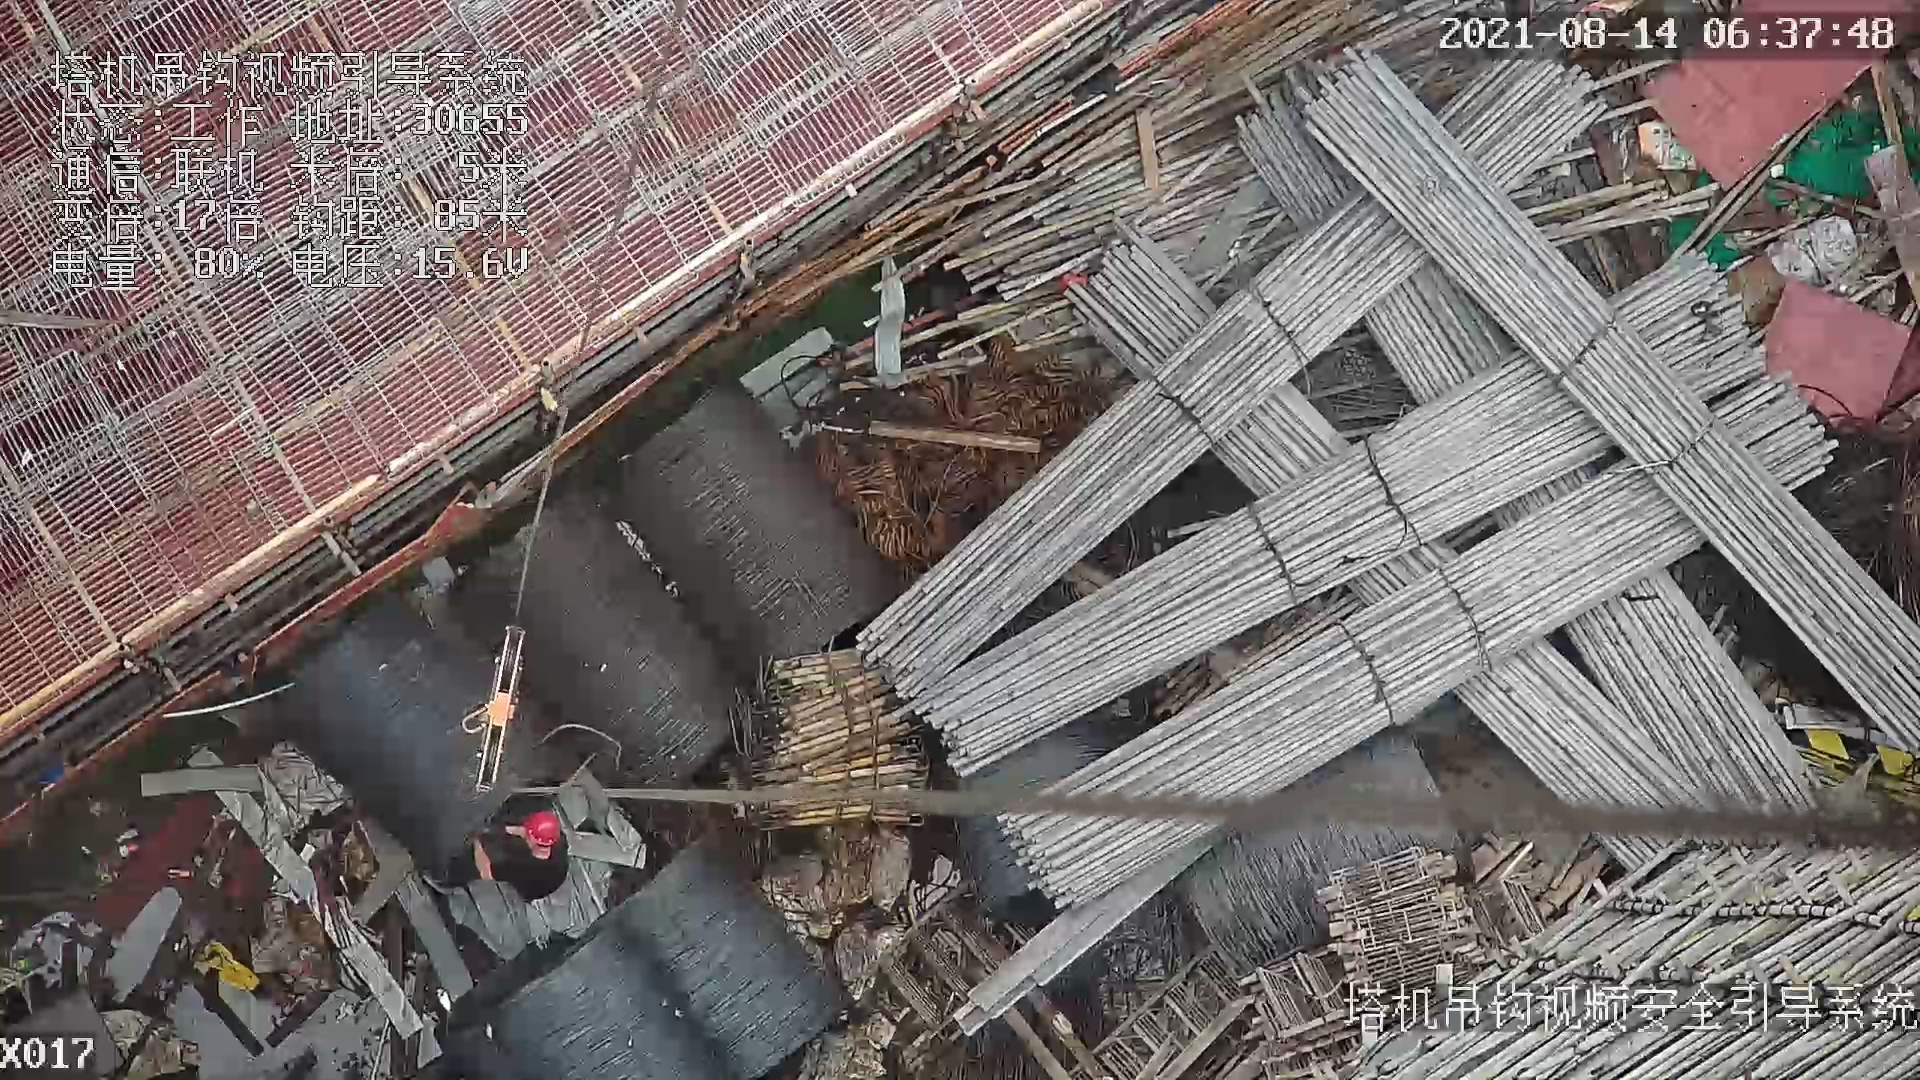helmet: (520, 809, 567, 851)
hook: (463, 618, 527, 790)
person: (460, 805, 574, 904)
scaffold: (905, 41, 1918, 841), (735, 645, 947, 850)
